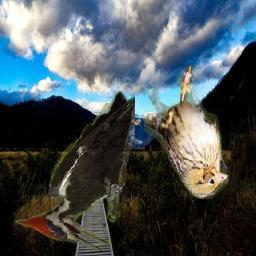Sparrow: (145, 65, 230, 199)
Woodpecker: (15, 91, 135, 251)
